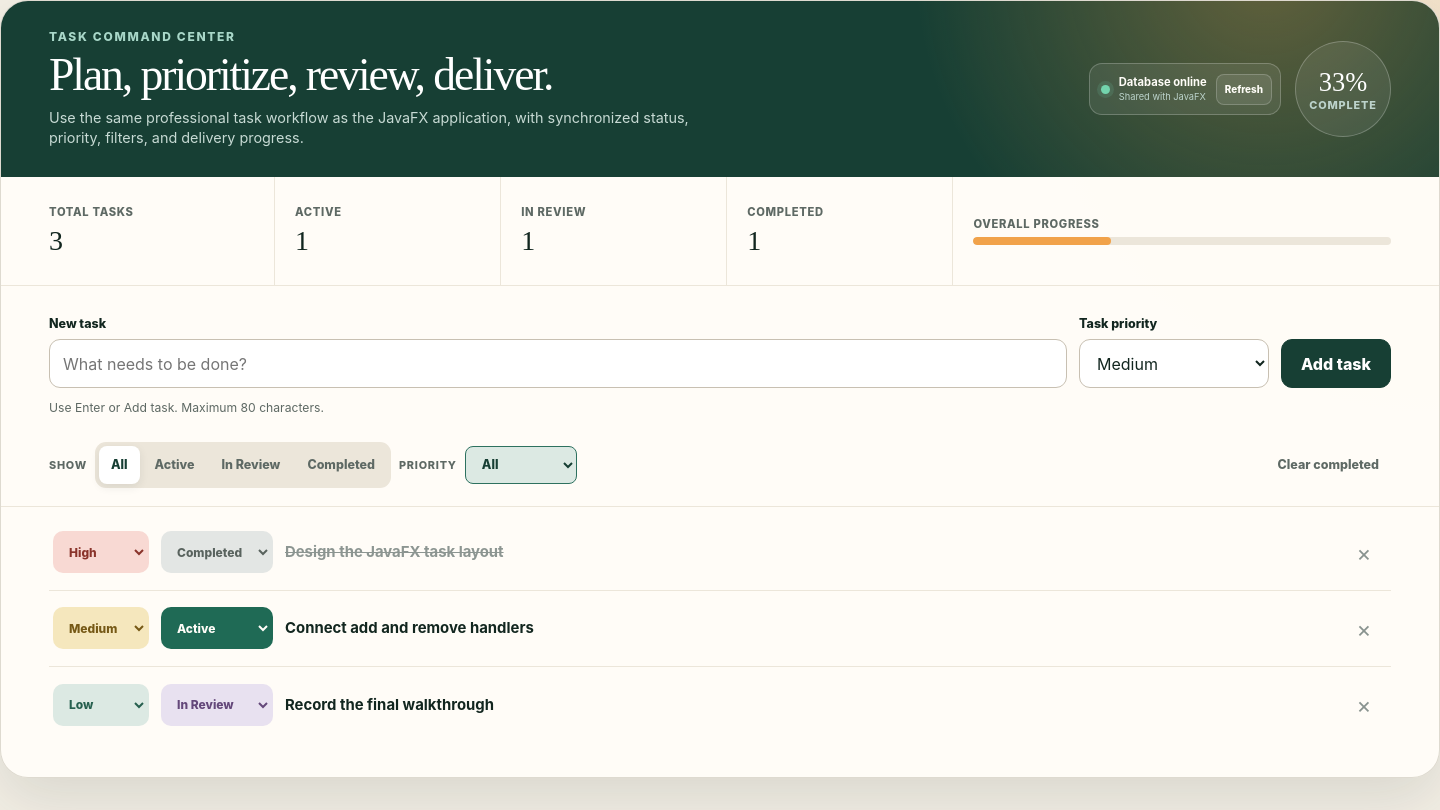
Test: AdvancedTaskLab › removes tasks and rejects duplicate titles
Expected: the text "Design the JavaFX task layout" is shown, 285,543 -> 504,561
Type "Design the JavaFX task layout" into the field labelled "New task" at (558, 364), box 49,339 -> 1067,388
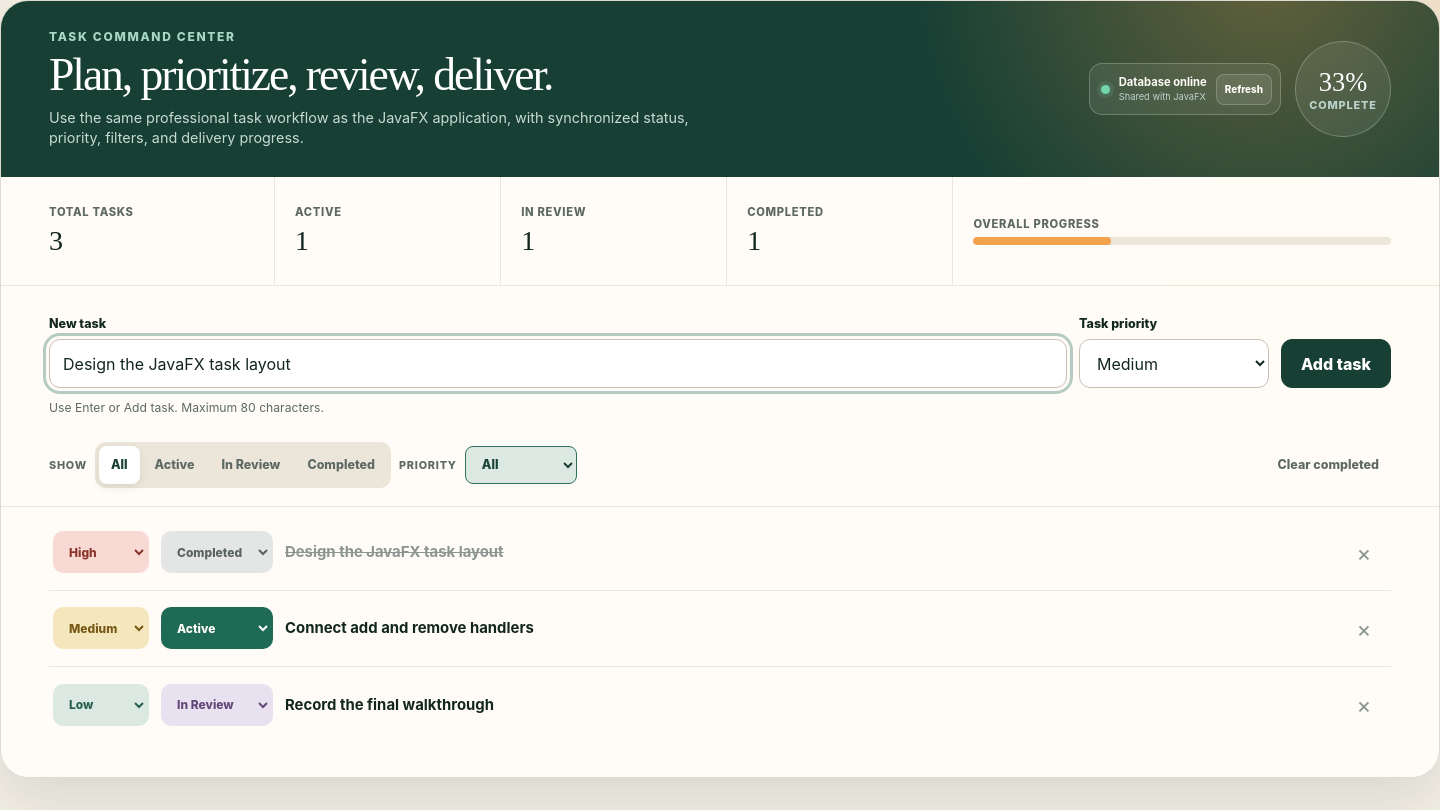
Click the button "Add task" at (1336, 364), box 1281,339 -> 1391,388
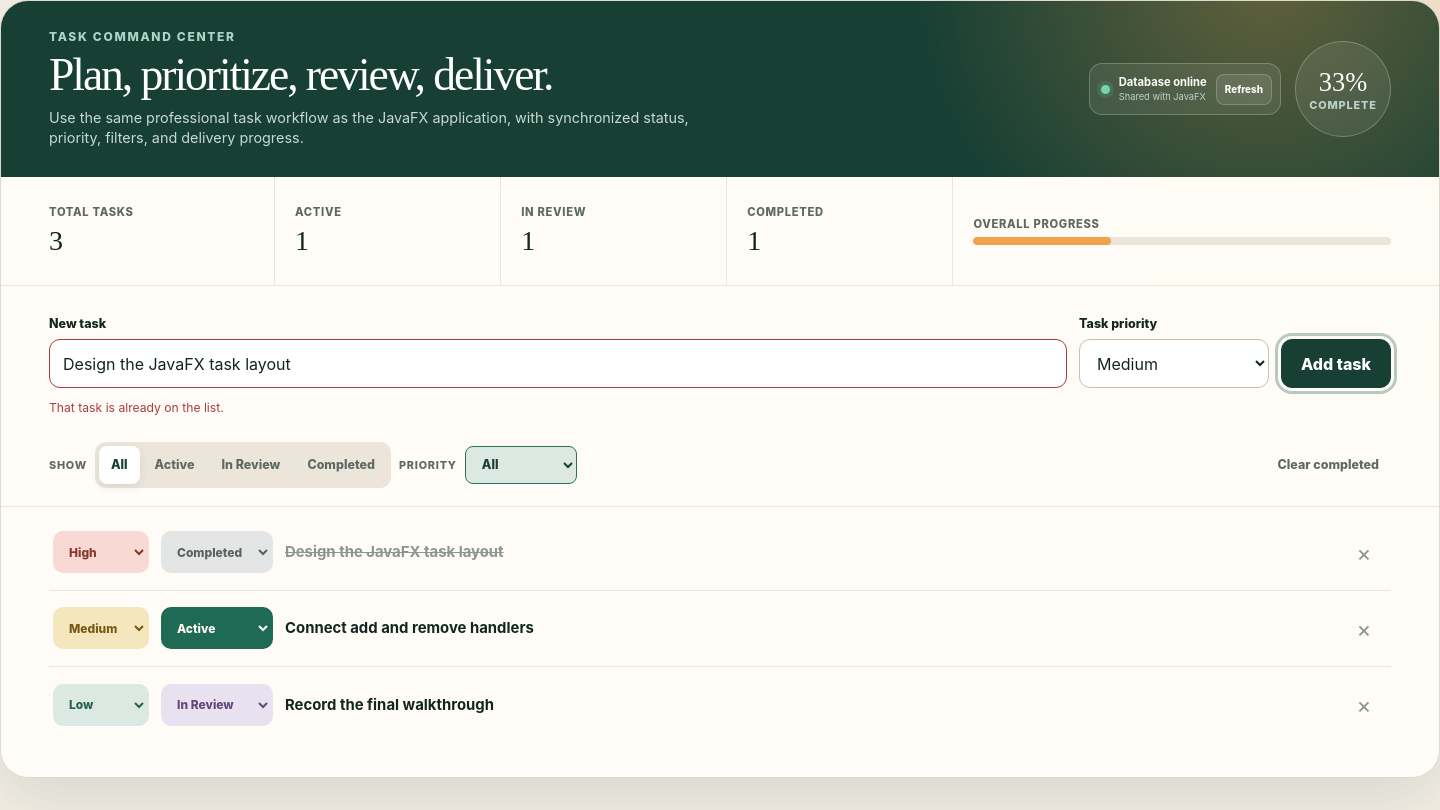
Expected: the text "That task is already on the list." is shown, 49,400 -> 224,415
Click the button named "Remove \"Record the final walkthrough\"" at (1364, 704), box 1345,686 -> 1383,724
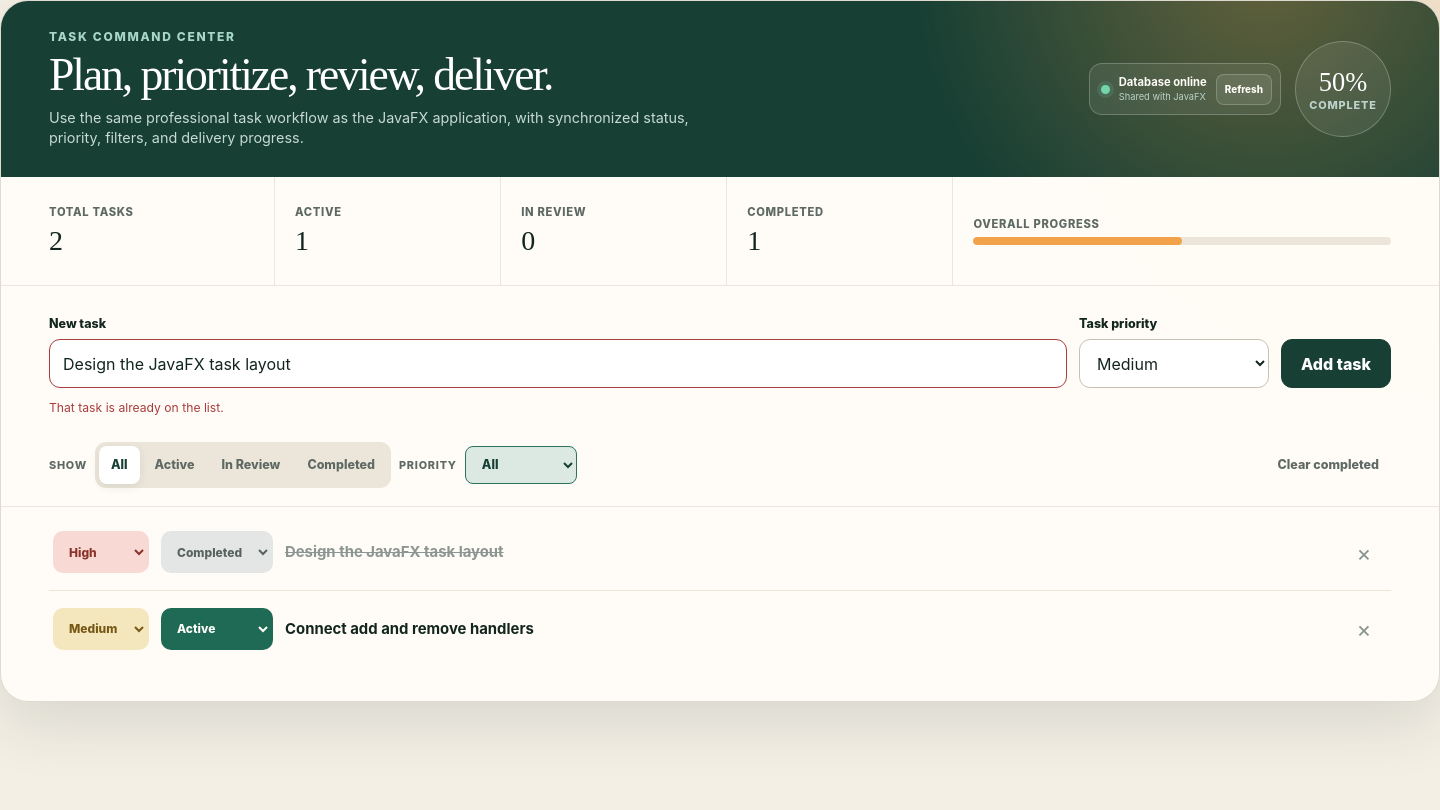
Expected: the text "Record the final walkthrough" is gone
